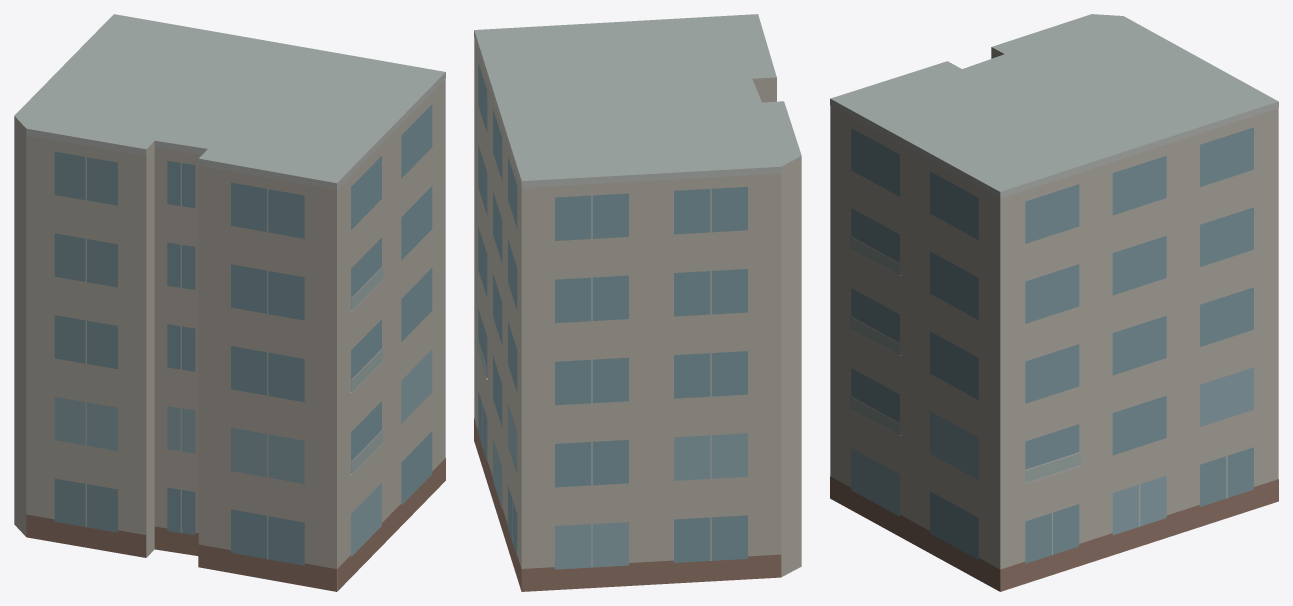
The model's file is survey-upis-32529501.glb.
The picture shows the model from 3 angles, left to right: view 1: azimuth 30°, elevation 25°; view 2: azimuth 150°, elevation 25°; view 3: azimuth 270°, elevation 25°; orthographic projection. The views are drawn at different scales.
Parts seen in each view (by area): view 1: survey-upis-32529501.tmp; view 2: survey-upis-32529501.tmp; view 3: survey-upis-32529501.tmp.
Part boxes in pixels (bbox=[...]): survey-upis-32529501.tmp: bbox=[14, 14, 445, 591]; survey-upis-32529501.tmp: bbox=[474, 14, 801, 591]; survey-upis-32529501.tmp: bbox=[830, 14, 1278, 591].
Size of the model in its own units: 14.04 by 14.7 by 14.95.
